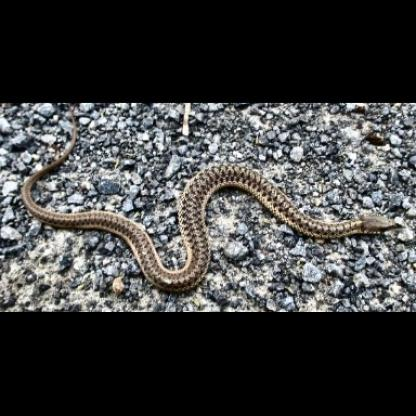Snake: (6, 128, 410, 302)
